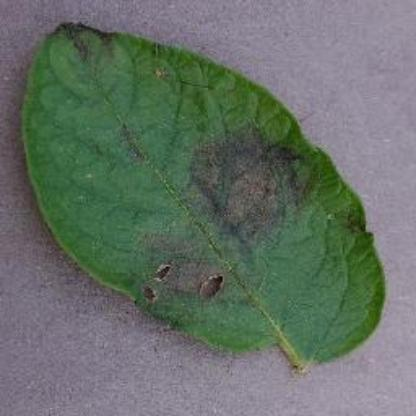Late-Blight: (16, 19, 402, 384)
